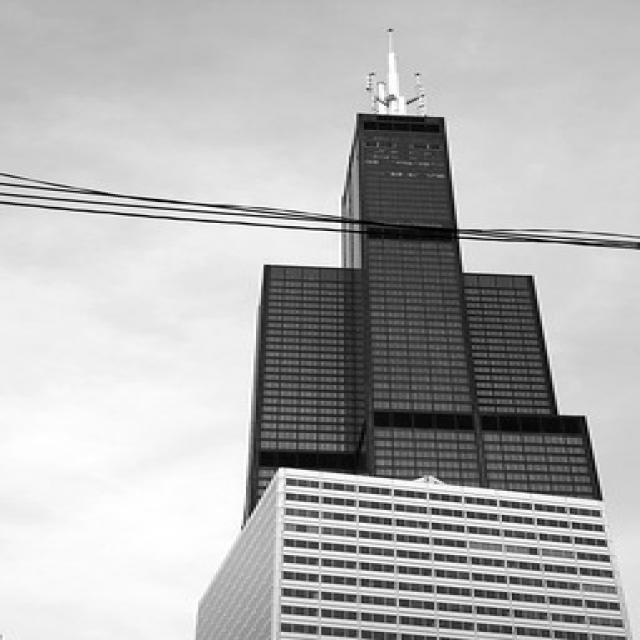Normal_building: (241, 106, 640, 640)
